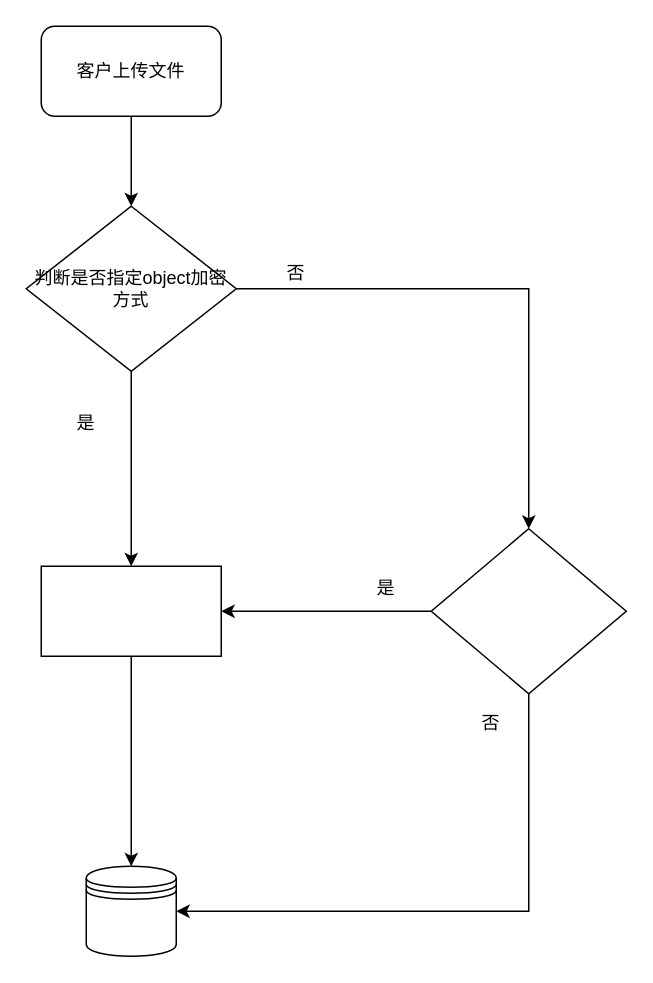
This 653x983 diagram has some shape labels left out. The box of each missing label's shape, as (x1, y1, x2, y2) in pixels:
加密文件: (40, 565, 221, 656)
桶是否开启加密策略: (430, 527, 626, 694)
